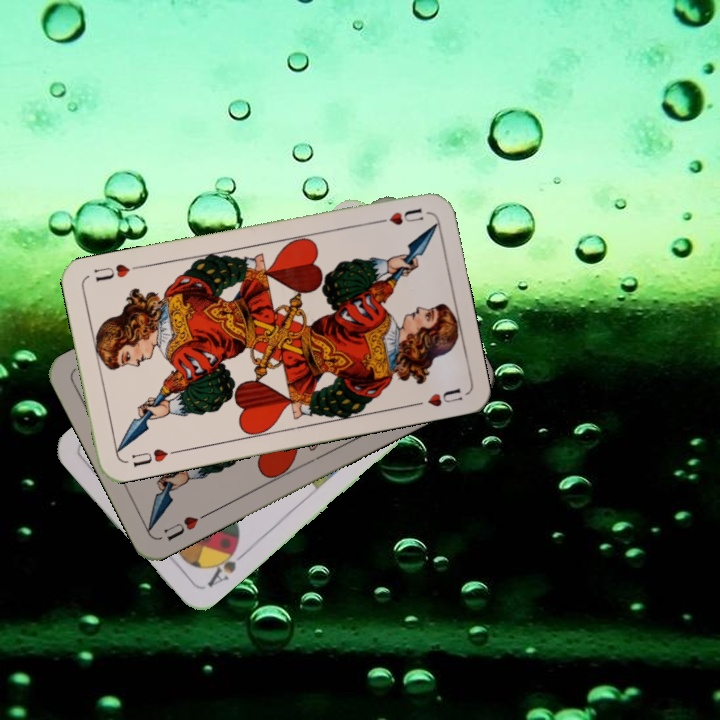HU: (159, 508, 212, 544), (127, 444, 180, 470), (370, 204, 426, 228)
SA: (203, 540, 249, 590)
